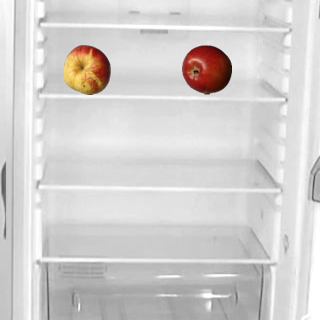Apple Braeburn: (181, 44, 231, 94)
Apple Red Yellow 1: (61, 44, 111, 94)
